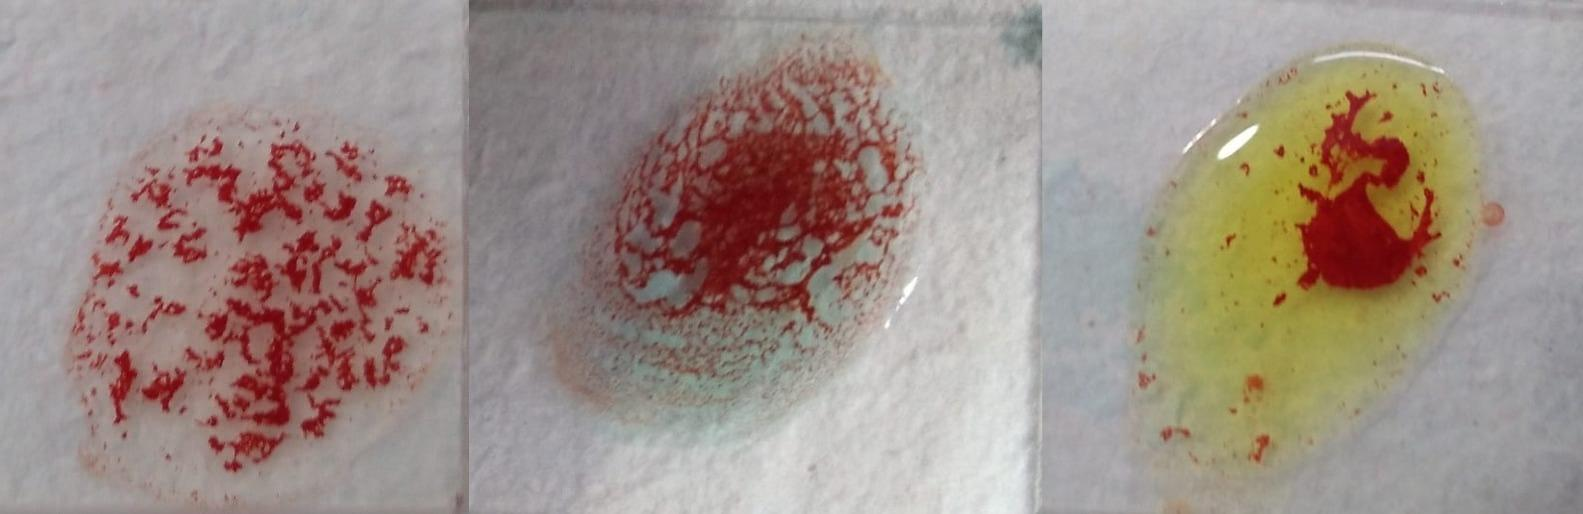A: (540, 43, 921, 427)
B: (1122, 52, 1479, 437)
D: (74, 132, 443, 489)
